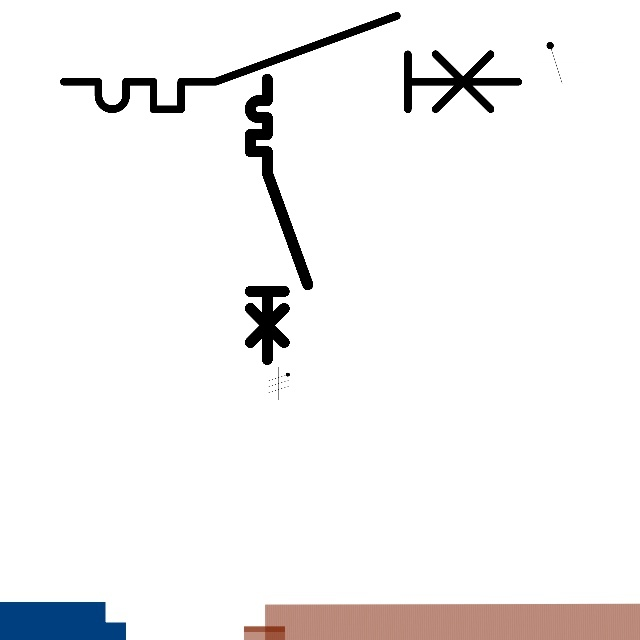interruptor_termomagnetico: (52, 4, 530, 121), (243, 72, 315, 366)
